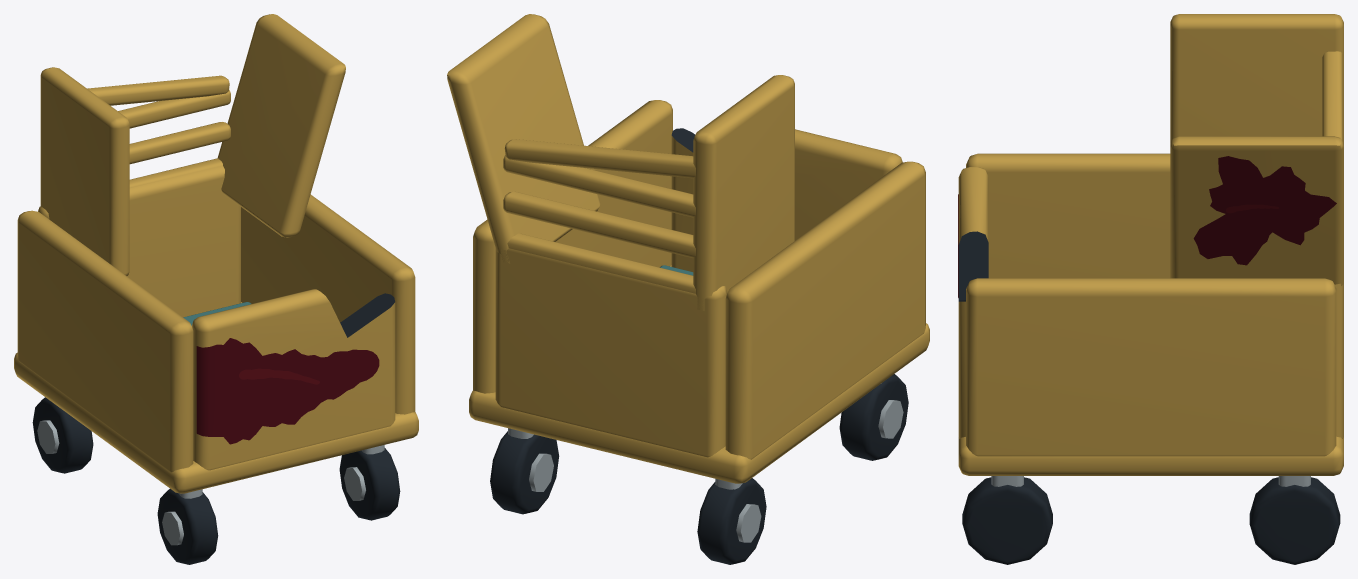
File: mop_bucket.glb
The picture shows the model from 3 angles, left to right: view 1: azimuth 30°, elevation 25°; view 2: azimuth 150°, elevation 25°; view 3: azimuth 270°, elevation 25°; orthographic projection. The views are drawn at different scales.
Visible parts, largest first — view 1: Outbreak_Utility_Mop_Bucket_Static; view 2: Outbreak_Utility_Mop_Bucket_Static; view 3: Outbreak_Utility_Mop_Bucket_Static.
Part boxes in pixels (left/top/right/bottom): Outbreak_Utility_Mop_Bucket_Static: left=14, top=14, right=418, bottom=564; Outbreak_Utility_Mop_Bucket_Static: left=447, top=14, right=929, bottom=564; Outbreak_Utility_Mop_Bucket_Static: left=958, top=14, right=1343, bottom=564.
Size of the model in its own units: 0.4624 by 0.65 by 0.5107.
